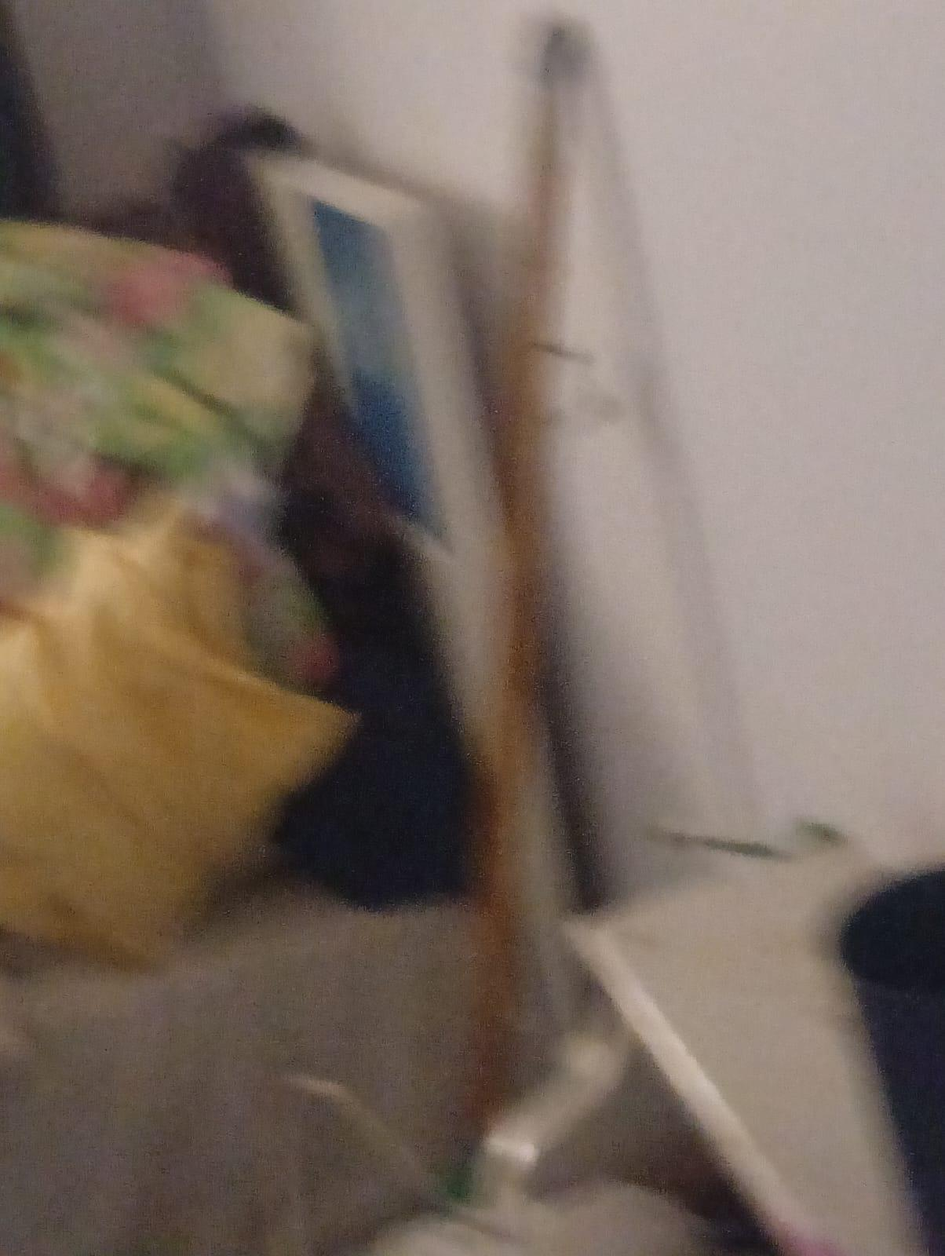cup: (837, 868, 944, 1255)
